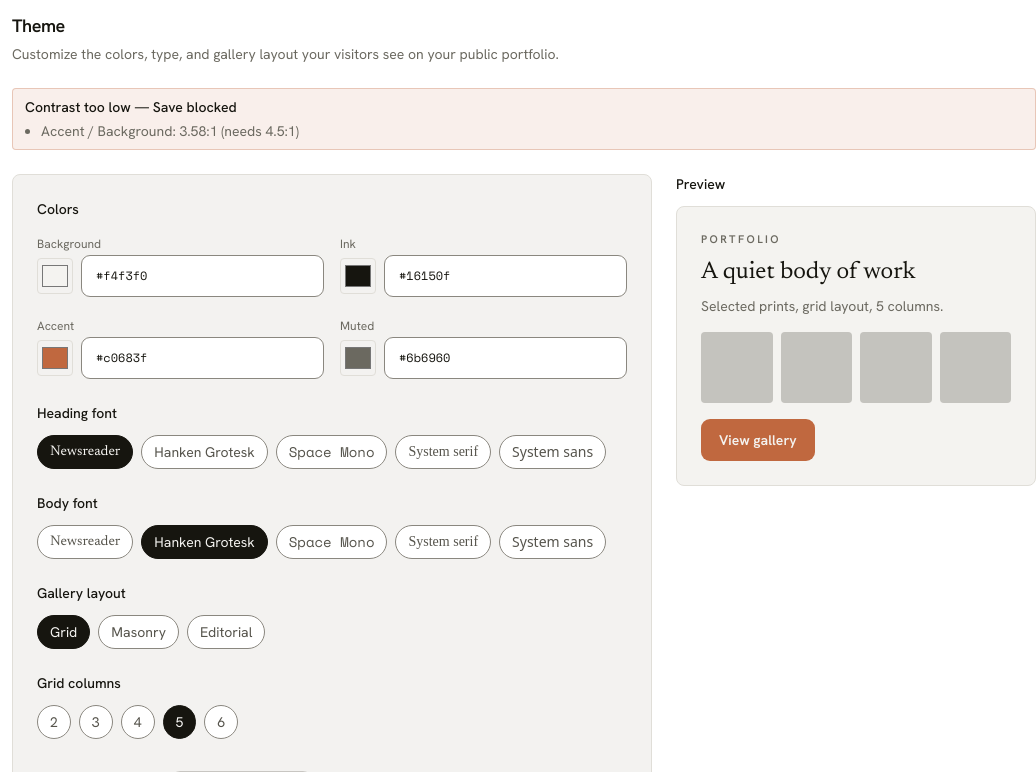
Scenario: ThemeEditor › enables Save once a field changes, and disables it again for an invalid hex
Step 1. Replace the text in the field labelled "Accent" with "#123456" → (202, 358), box [81, 337, 324, 379]
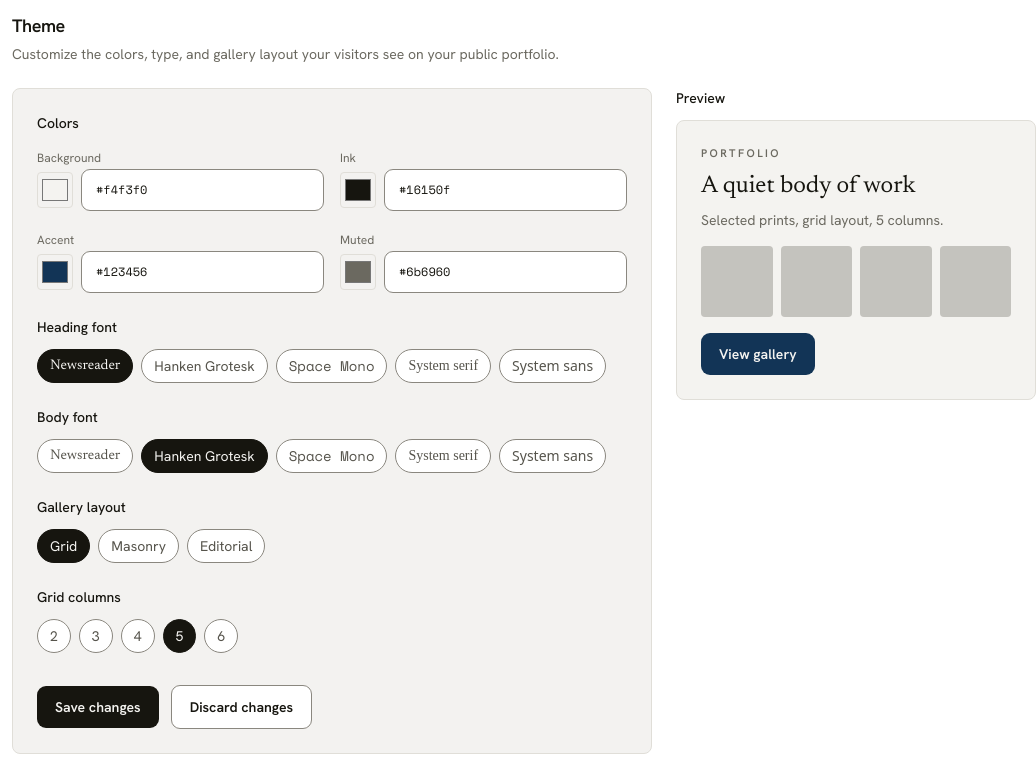
expect the button "Save changes" is enabled: met, box [37, 686, 159, 728]
Step 2. Replace the text in the field labelled "Accent" with "not-a-color" → (202, 272), box [81, 251, 324, 293]
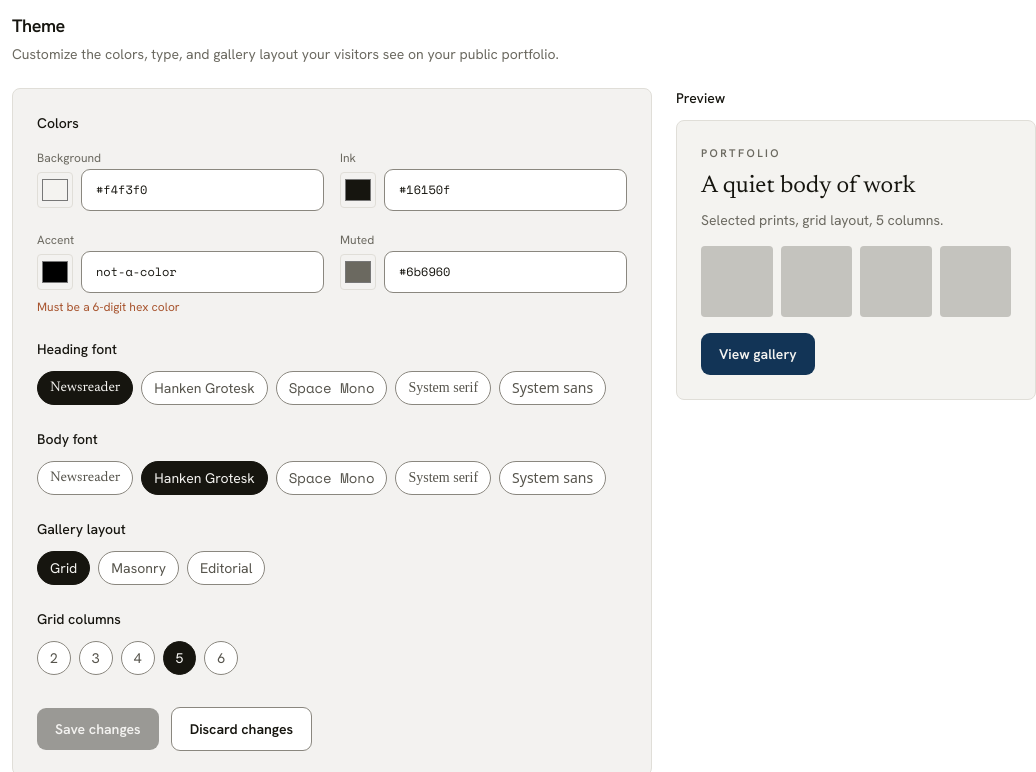
expect the text "Must be a 6-digit hex color" is shown: met, box [37, 299, 180, 315]
expect the button "Save changes" is disabled: met, box [37, 708, 159, 750]
